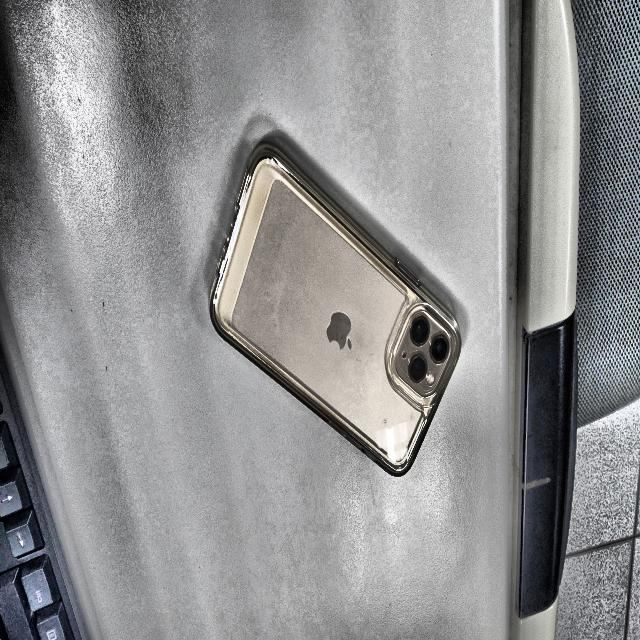PHONE: (210, 143, 460, 475)
